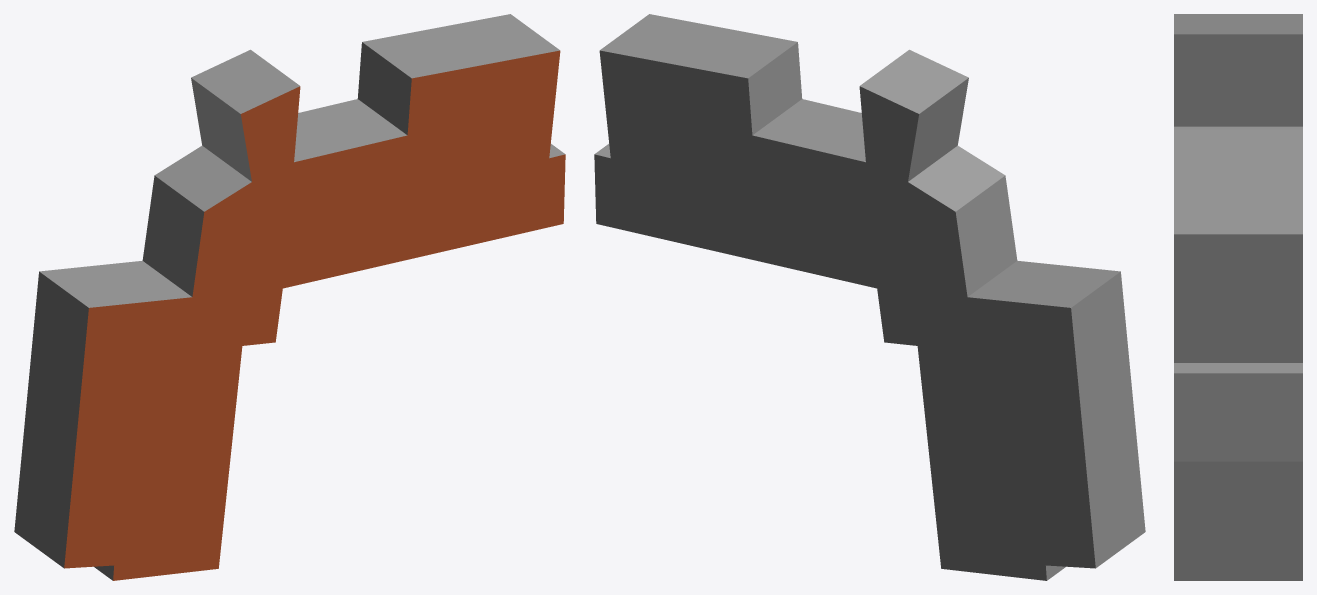
Rendered from construction_6039_assumed_A_Casa_h6m.obj.
The picture shows the model from 3 angles, left to right: view 1: azimuth 30°, elevation 25°; view 2: azimuth 150°, elevation 25°; view 3: azimuth 270°, elevation 25°; orthographic projection. The views are drawn at different scales.
Visible parts, largest first — view 1: construction_6039_assumed_A_Casa; view 2: construction_6039_assumed_A_Casa; view 3: construction_6039_assumed_A_Casa.
Boxes of the visible parts, x1=… form: construction_6039_assumed_A_Casa: x1=14, y1=14, x2=565, y2=580; construction_6039_assumed_A_Casa: x1=594, y1=14, x2=1145, y2=580; construction_6039_assumed_A_Casa: x1=1174, y1=14, x2=1302, y2=580.
Size of the model in its own units: 34.86 by 30.75 by 6.
